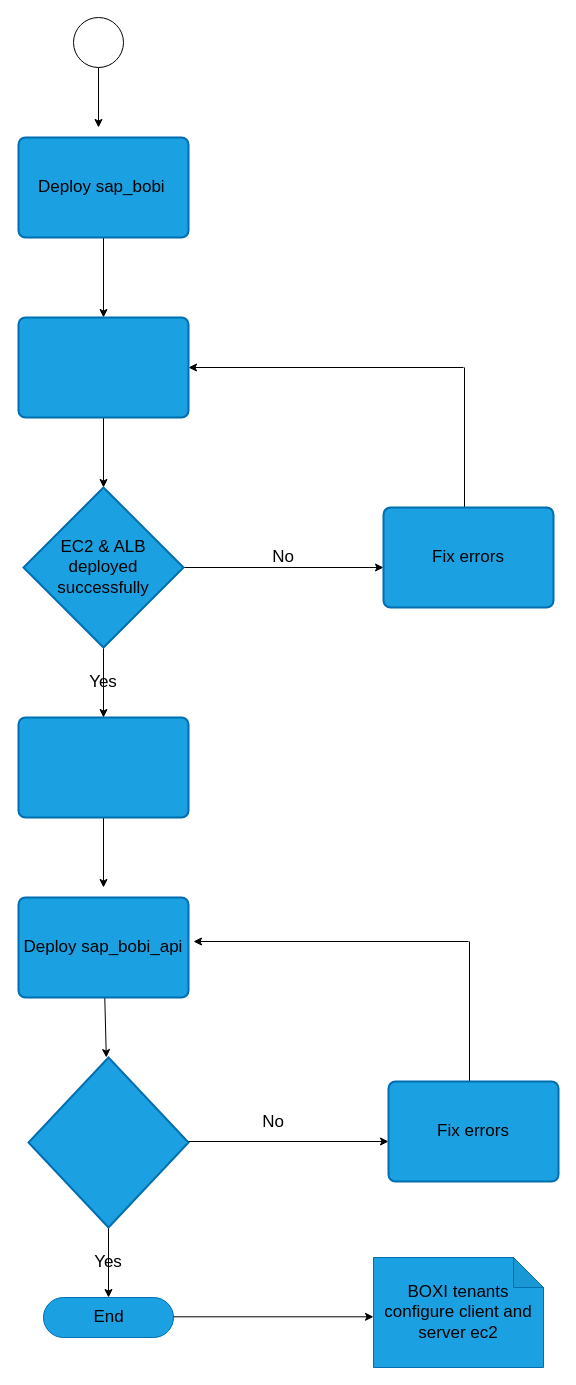
The diagram is 576 pixels wide and 1385 high, and some of its shapes have lost their labels. The shapes that lost their labels are listed below. From the top down, each one's box as (x1, y1, x2, y2) in pixels, then its label:
(17, 316, 189, 418): Deploy sap_bobi_ec2_alb
(17, 716, 189, 818): Extract route 53 dns name from output
(27, 1056, 189, 1228): Lambda & API gateway deployed successfully
